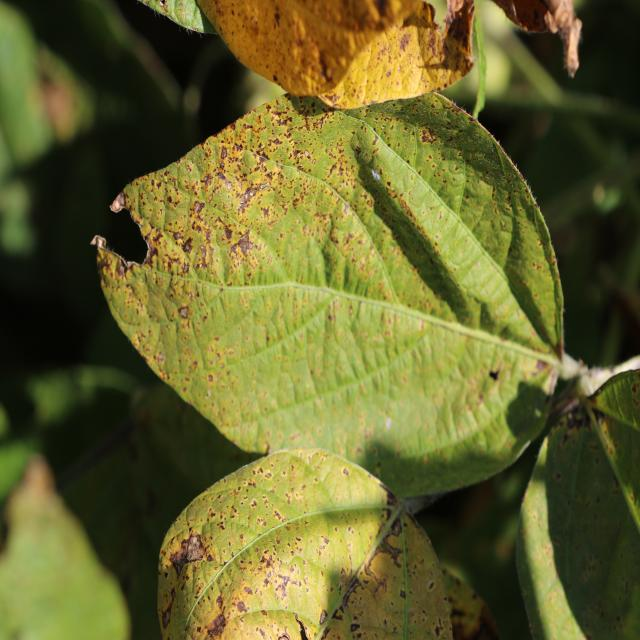Bacterial_Blight: (448, 127, 507, 184), (192, 227, 226, 277), (225, 190, 262, 230), (185, 533, 205, 563), (206, 612, 228, 639), (293, 612, 311, 639), (533, 356, 552, 378), (426, 31, 441, 58), (175, 0, 193, 20), (586, 380, 603, 400), (321, 90, 341, 105), (218, 175, 233, 193), (419, 128, 436, 143), (319, 57, 331, 78), (399, 33, 411, 53), (162, 606, 172, 629), (191, 200, 204, 217), (116, 258, 127, 277), (202, 173, 214, 190), (235, 600, 249, 613), (222, 225, 233, 241), (488, 367, 500, 381), (183, 238, 193, 253), (178, 306, 189, 319), (371, 168, 380, 182), (350, 622, 361, 633), (274, 11, 281, 26), (220, 146, 228, 159), (434, 624, 442, 637), (258, 153, 268, 163), (157, 351, 165, 363), (259, 183, 270, 191), (399, 589, 406, 599), (428, 581, 435, 590), (250, 499, 257, 508), (342, 468, 349, 476), (554, 472, 561, 480), (158, 0, 165, 8), (304, 150, 310, 159), (163, 570, 169, 579), (386, 70, 392, 78), (207, 374, 213, 382), (636, 383, 640, 393)
Soybean: (91, 93, 640, 499)
